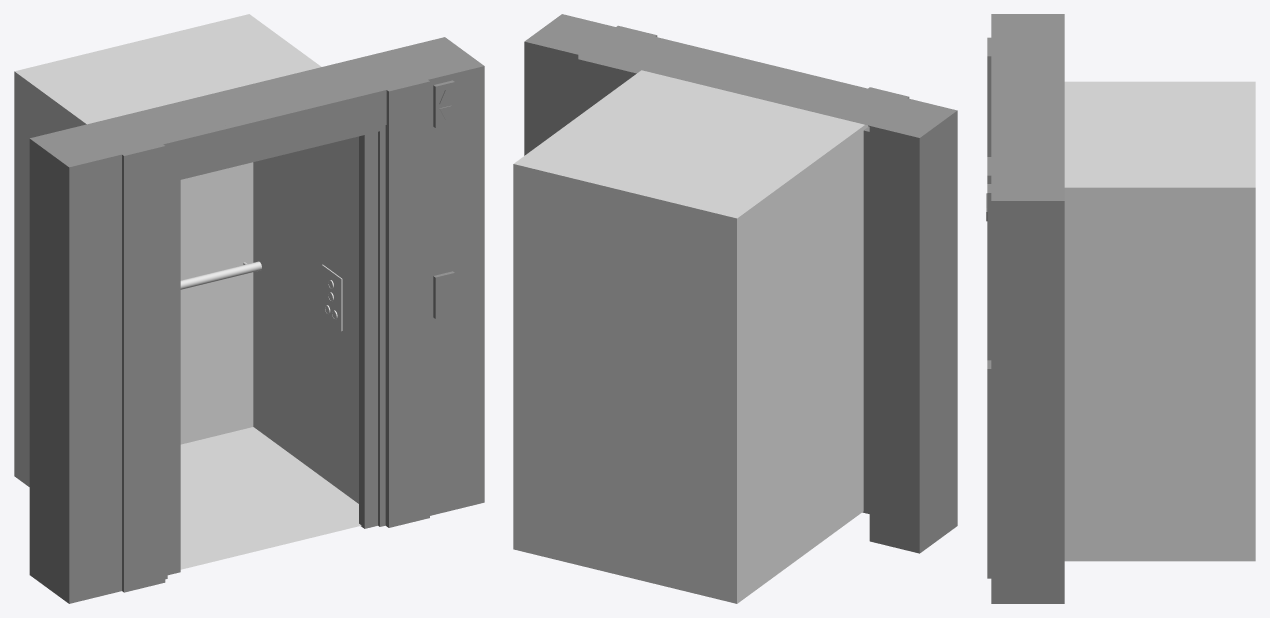
Rendered from Ascensor_abierto.fbx.
3 renders of one model, left to right at view 1: azimuth 30°, elevation 25°; view 2: azimuth 150°, elevation 25°; view 3: azimuth 270°, elevation 25°, orthographic. The views are drawn at different scales.
Parts seen in each view (by area): view 1: Ascensor.004, Cube.015, Cube.016, Cylinder; view 2: Cube.015, Ascensor.004; view 3: Cube.015, Ascensor.004.
Boxes of the visible parts, left/top/right/bottom form: Ascensor.004: left=29, top=37, right=484, bottom=603; Cube.015: left=14, top=14, right=361, bottom=569; Cube.016: left=322, top=264, right=342, bottom=331; Cylinder: left=180, top=261, right=261, bottom=289; Cube.015: left=513, top=70, right=867, bottom=603; Ascensor.004: left=524, top=14, right=957, bottom=553; Cube.015: left=1064, top=81, right=1255, bottom=561; Ascensor.004: left=986, top=14, right=1064, bottom=603.
Size of the model in its own units: 244 by 245 by 149.
